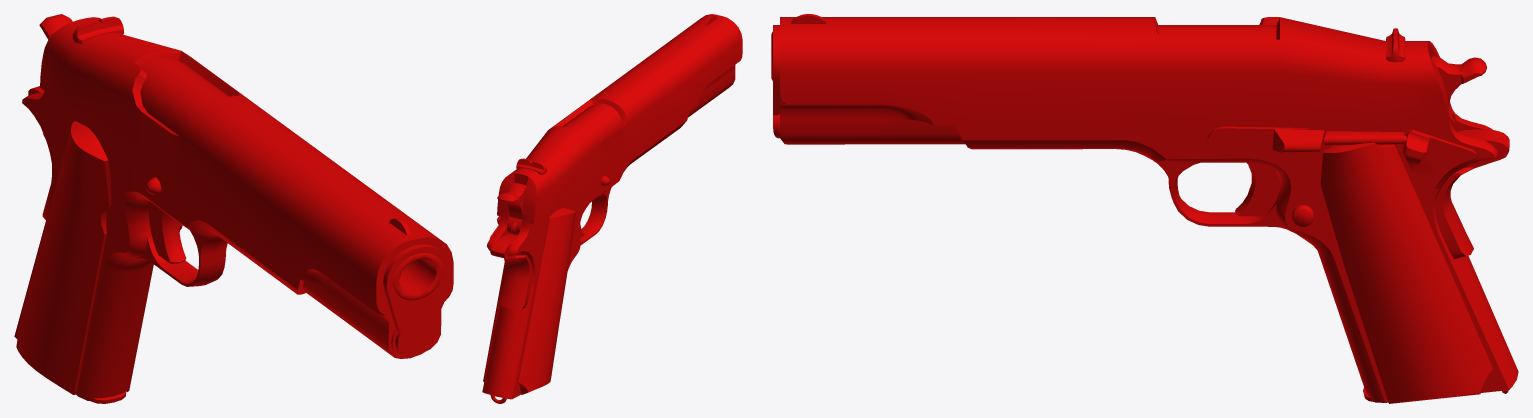
File: Gun.fbx
The picture shows the model from 3 angles, left to right: view 1: azimuth 30°, elevation 25°; view 2: azimuth 150°, elevation 25°; view 3: azimuth 270°, elevation 25°; orthographic projection. The views are drawn at different scales.
Parts seen in each view (by area): view 1: model; view 2: model; view 3: model.
Part boxes in pixels (x1=…): model: x1=14, y1=14, x2=453, y2=403; model: x1=482, y1=14, x2=742, y2=403; model: x1=771, y1=14, x2=1518, y2=403.
Size of the model in its own units: 3.43 by 13.4 by 23.88.
